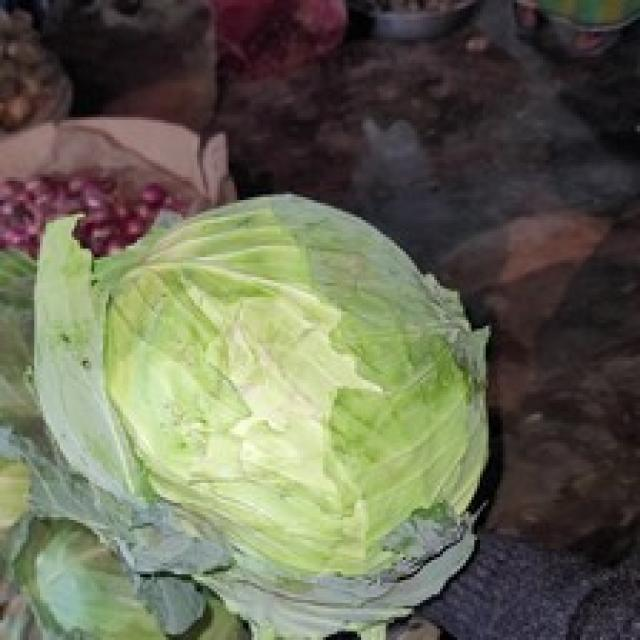Cabbage: (14, 189, 492, 637)
